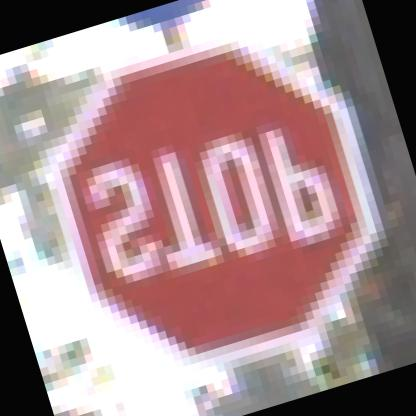stop: (5, 0, 415, 402)
